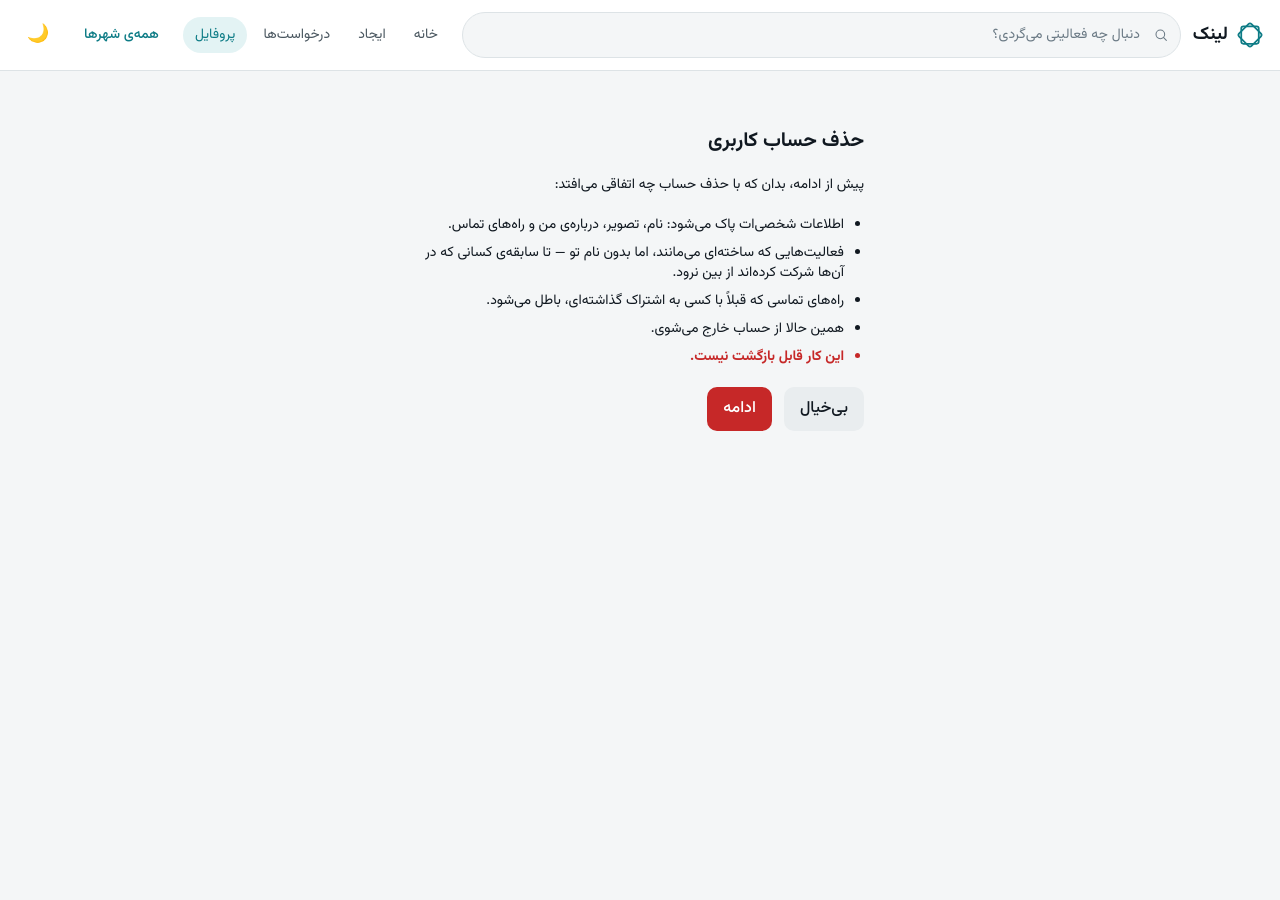
Test: profile edit and deletion — US-03 › deletion requires the confirmation word to be typed
expect the list with test id "deletion-consequences" is shown: met, box [416,215,864,367]
expect the list item "این کار قابل بازگشت نیست." is shown: met, box [690,346,844,368]
Step 1. Click the button with test id "deletion-continue" → coordinates (740, 409), box [707,387,772,431]
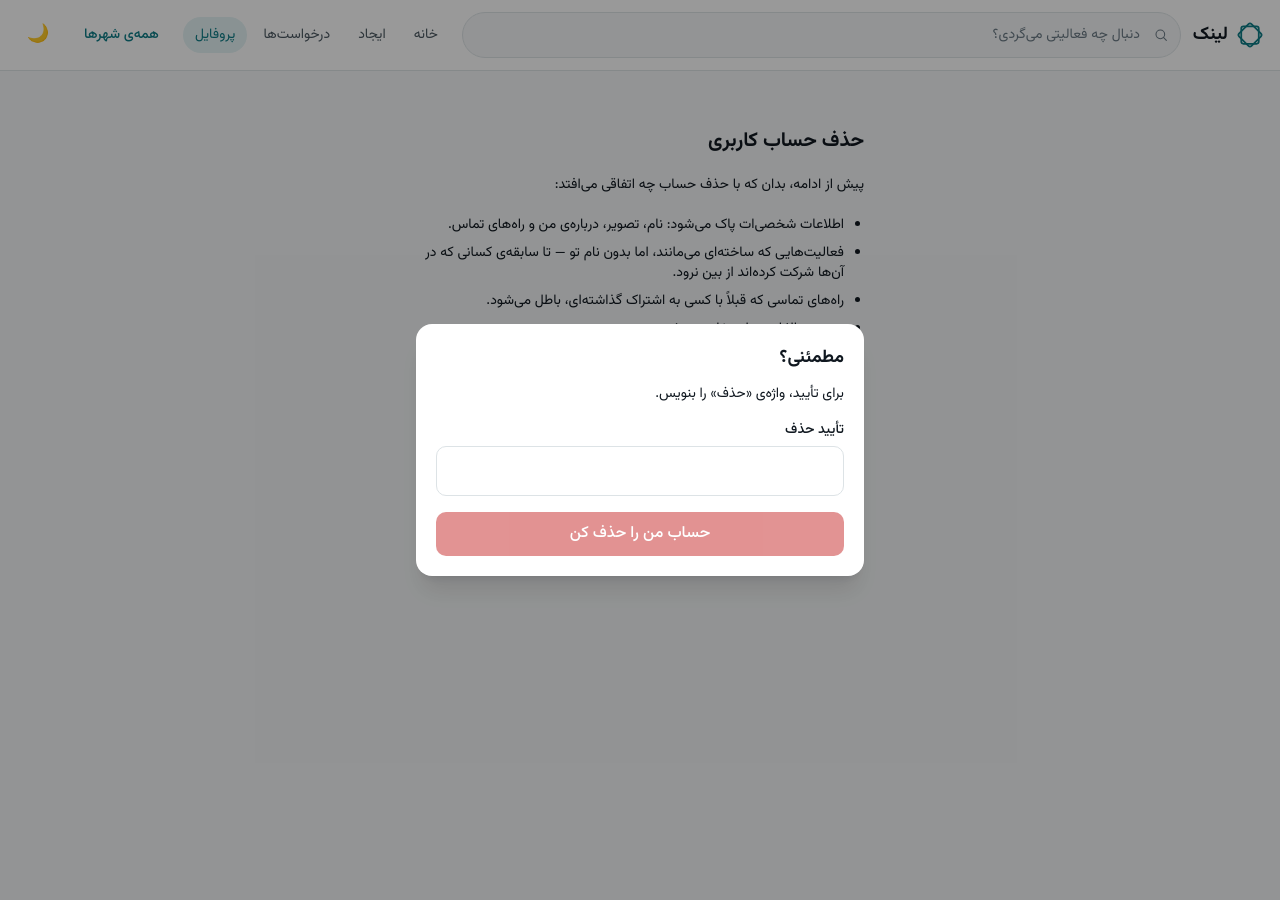
expect the button with test id "deletion-confirm-submit" is disabled: met, box [436,512,844,556]
Step 2. Type "حذف" into the field with test id "deletion-confirm-input" → coordinates (640, 471), box [436,446,844,496]
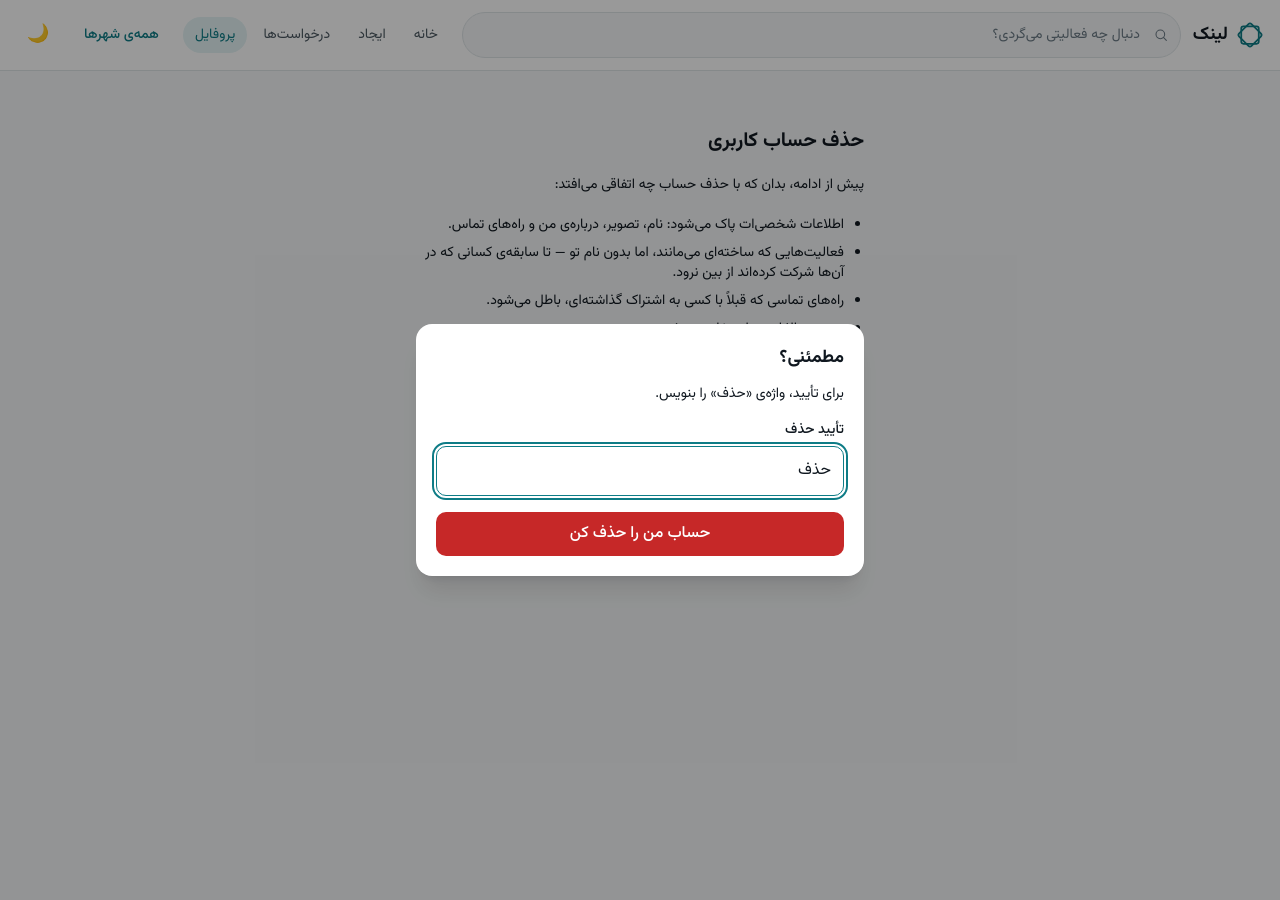
expect the button with test id "deletion-confirm-submit" is enabled: met, box [436,512,844,556]
